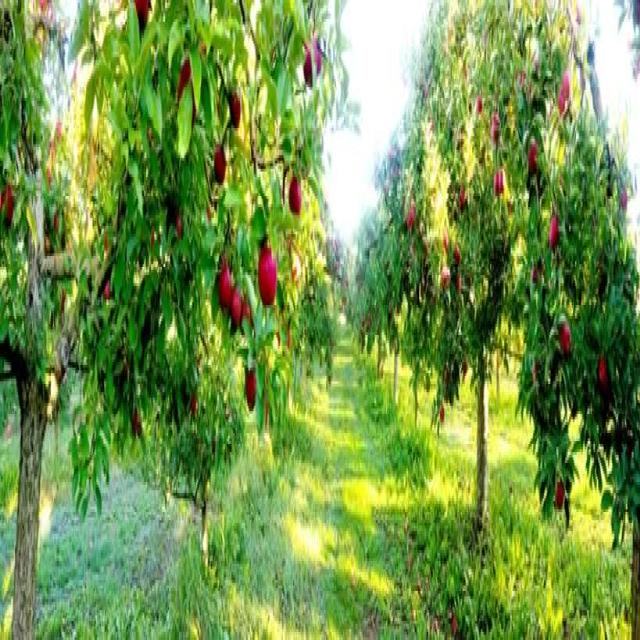row: (217, 335, 522, 640)
